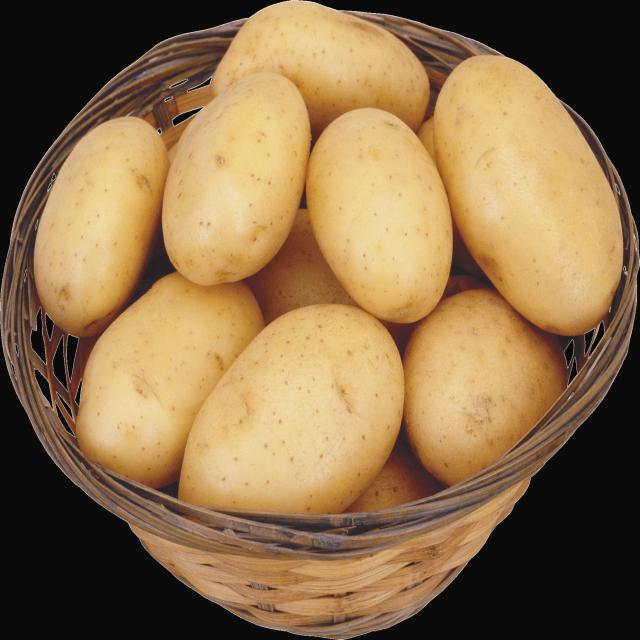potato: (438, 58, 622, 338), (175, 302, 405, 517), (75, 284, 263, 480), (165, 62, 316, 284), (310, 105, 452, 328), (31, 116, 169, 324)
